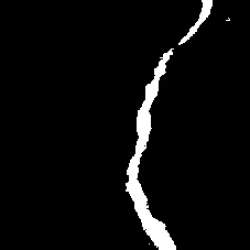crack: (126, 48, 176, 248), (180, 1, 212, 45)
